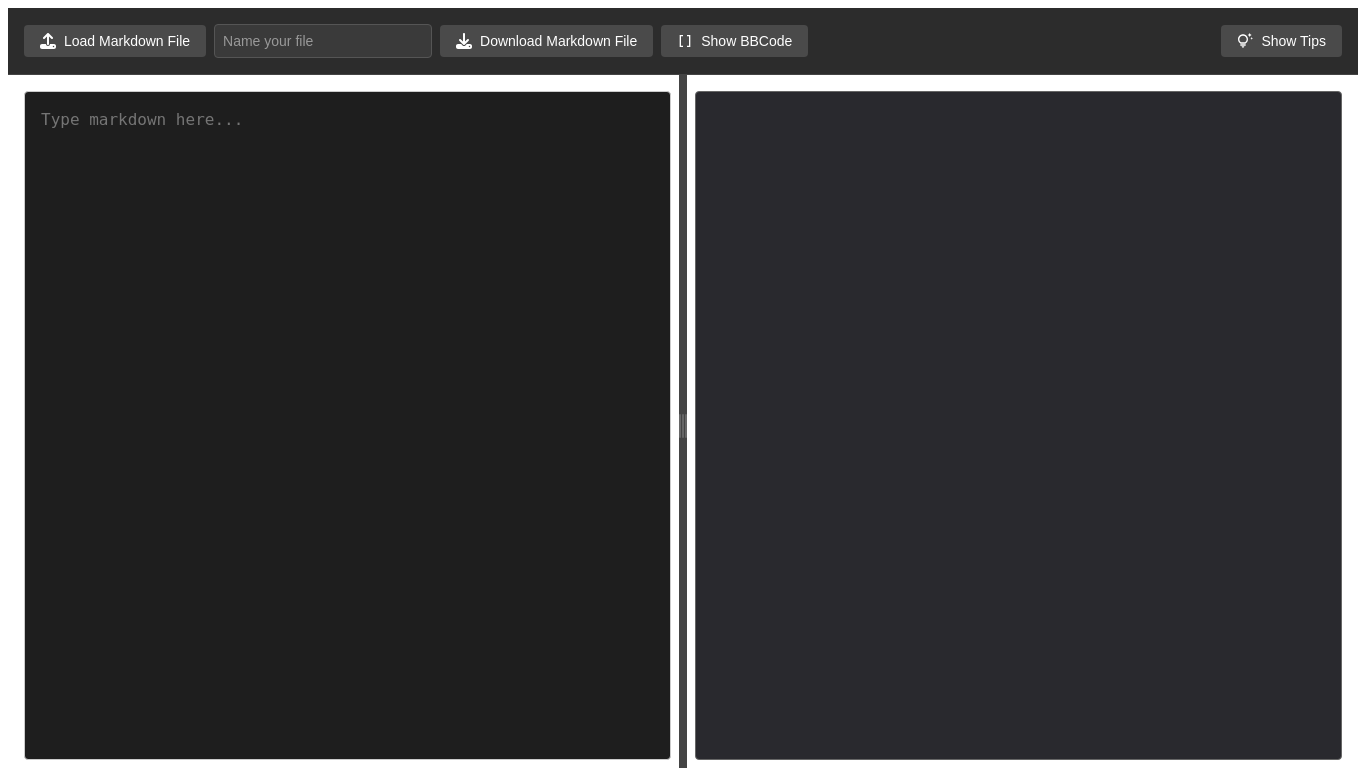
Scenario: App › should render markdown content in preview mode
Type "# Hello World\\n\\nThis is **bold** text." into the text box with placeholder "Type markdown here..." at (348, 426), box [24,91,671,760]
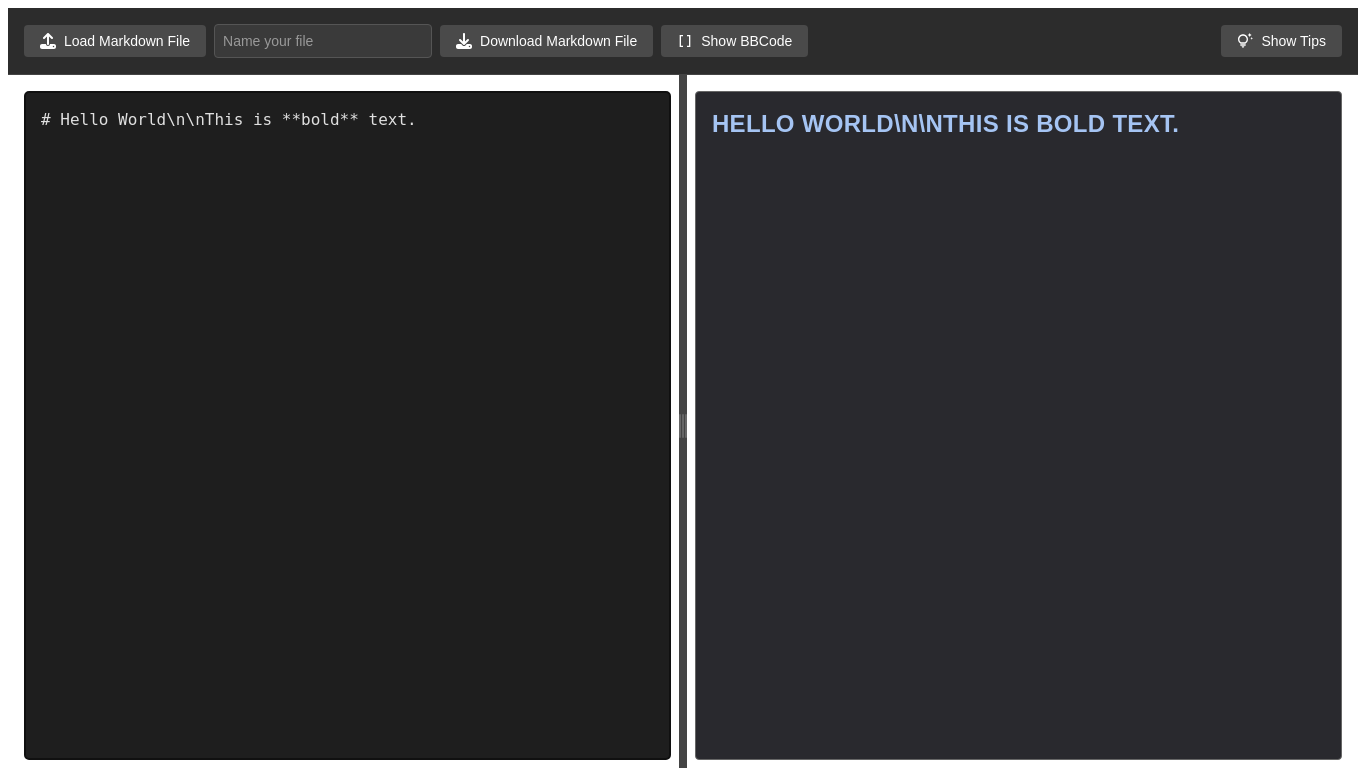
Expected: the heading shows "Hello World", [712,110,1036,137]
